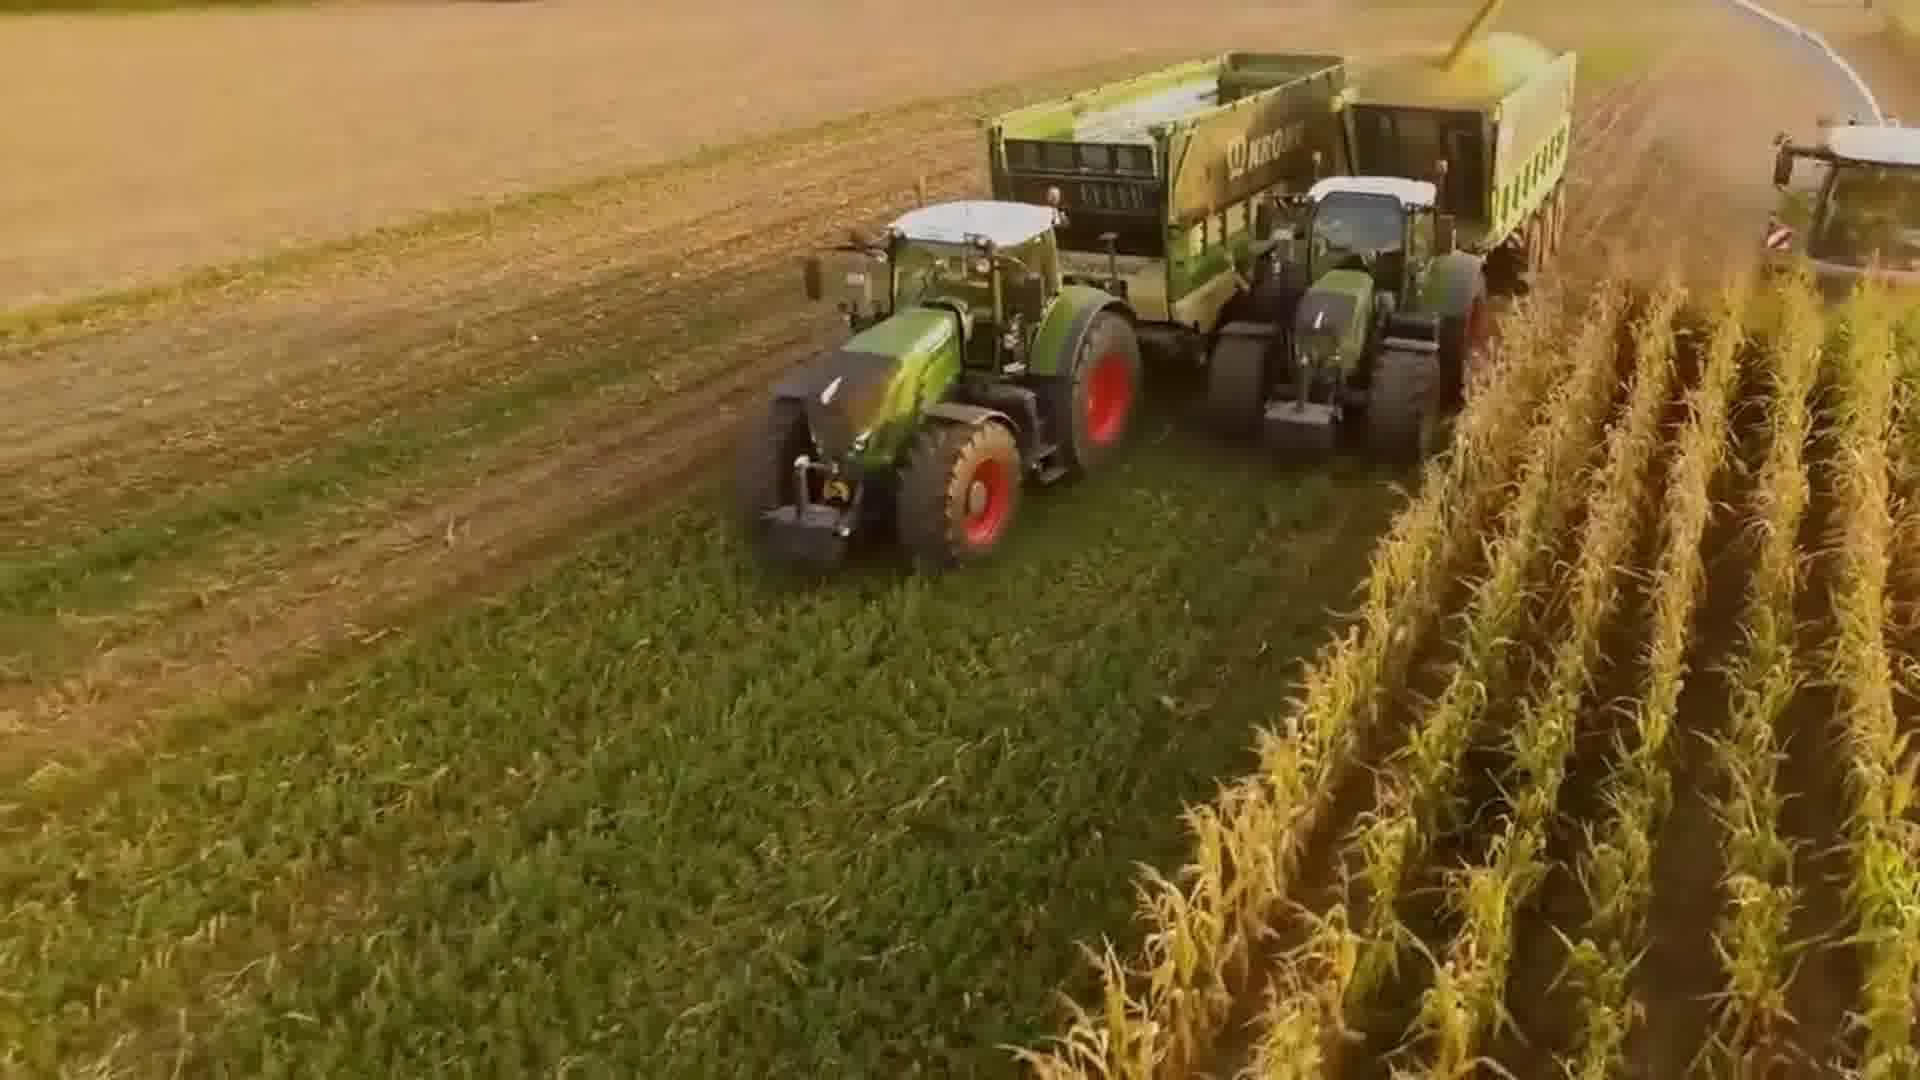combine harvester: (1685, 0, 1920, 344)
tractor: (724, 193, 1151, 588), (1196, 170, 1493, 463)
trailer: (977, 41, 1360, 361), (1317, 34, 1581, 273)
